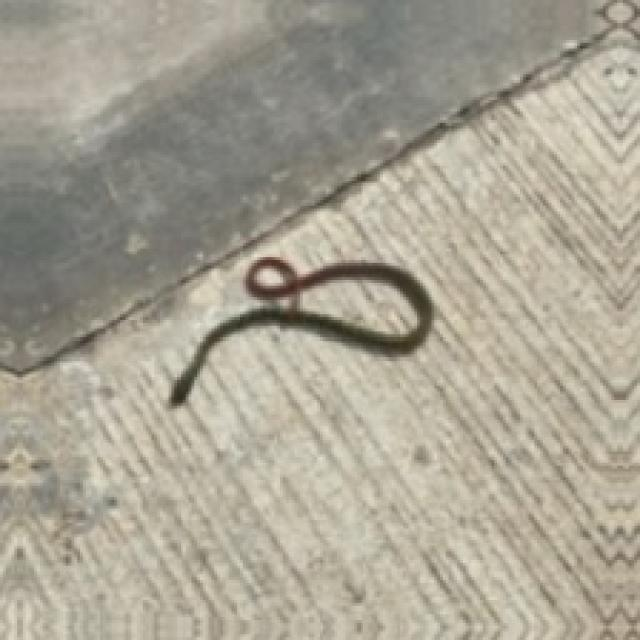reddish rat snake: (169, 257, 431, 403)
